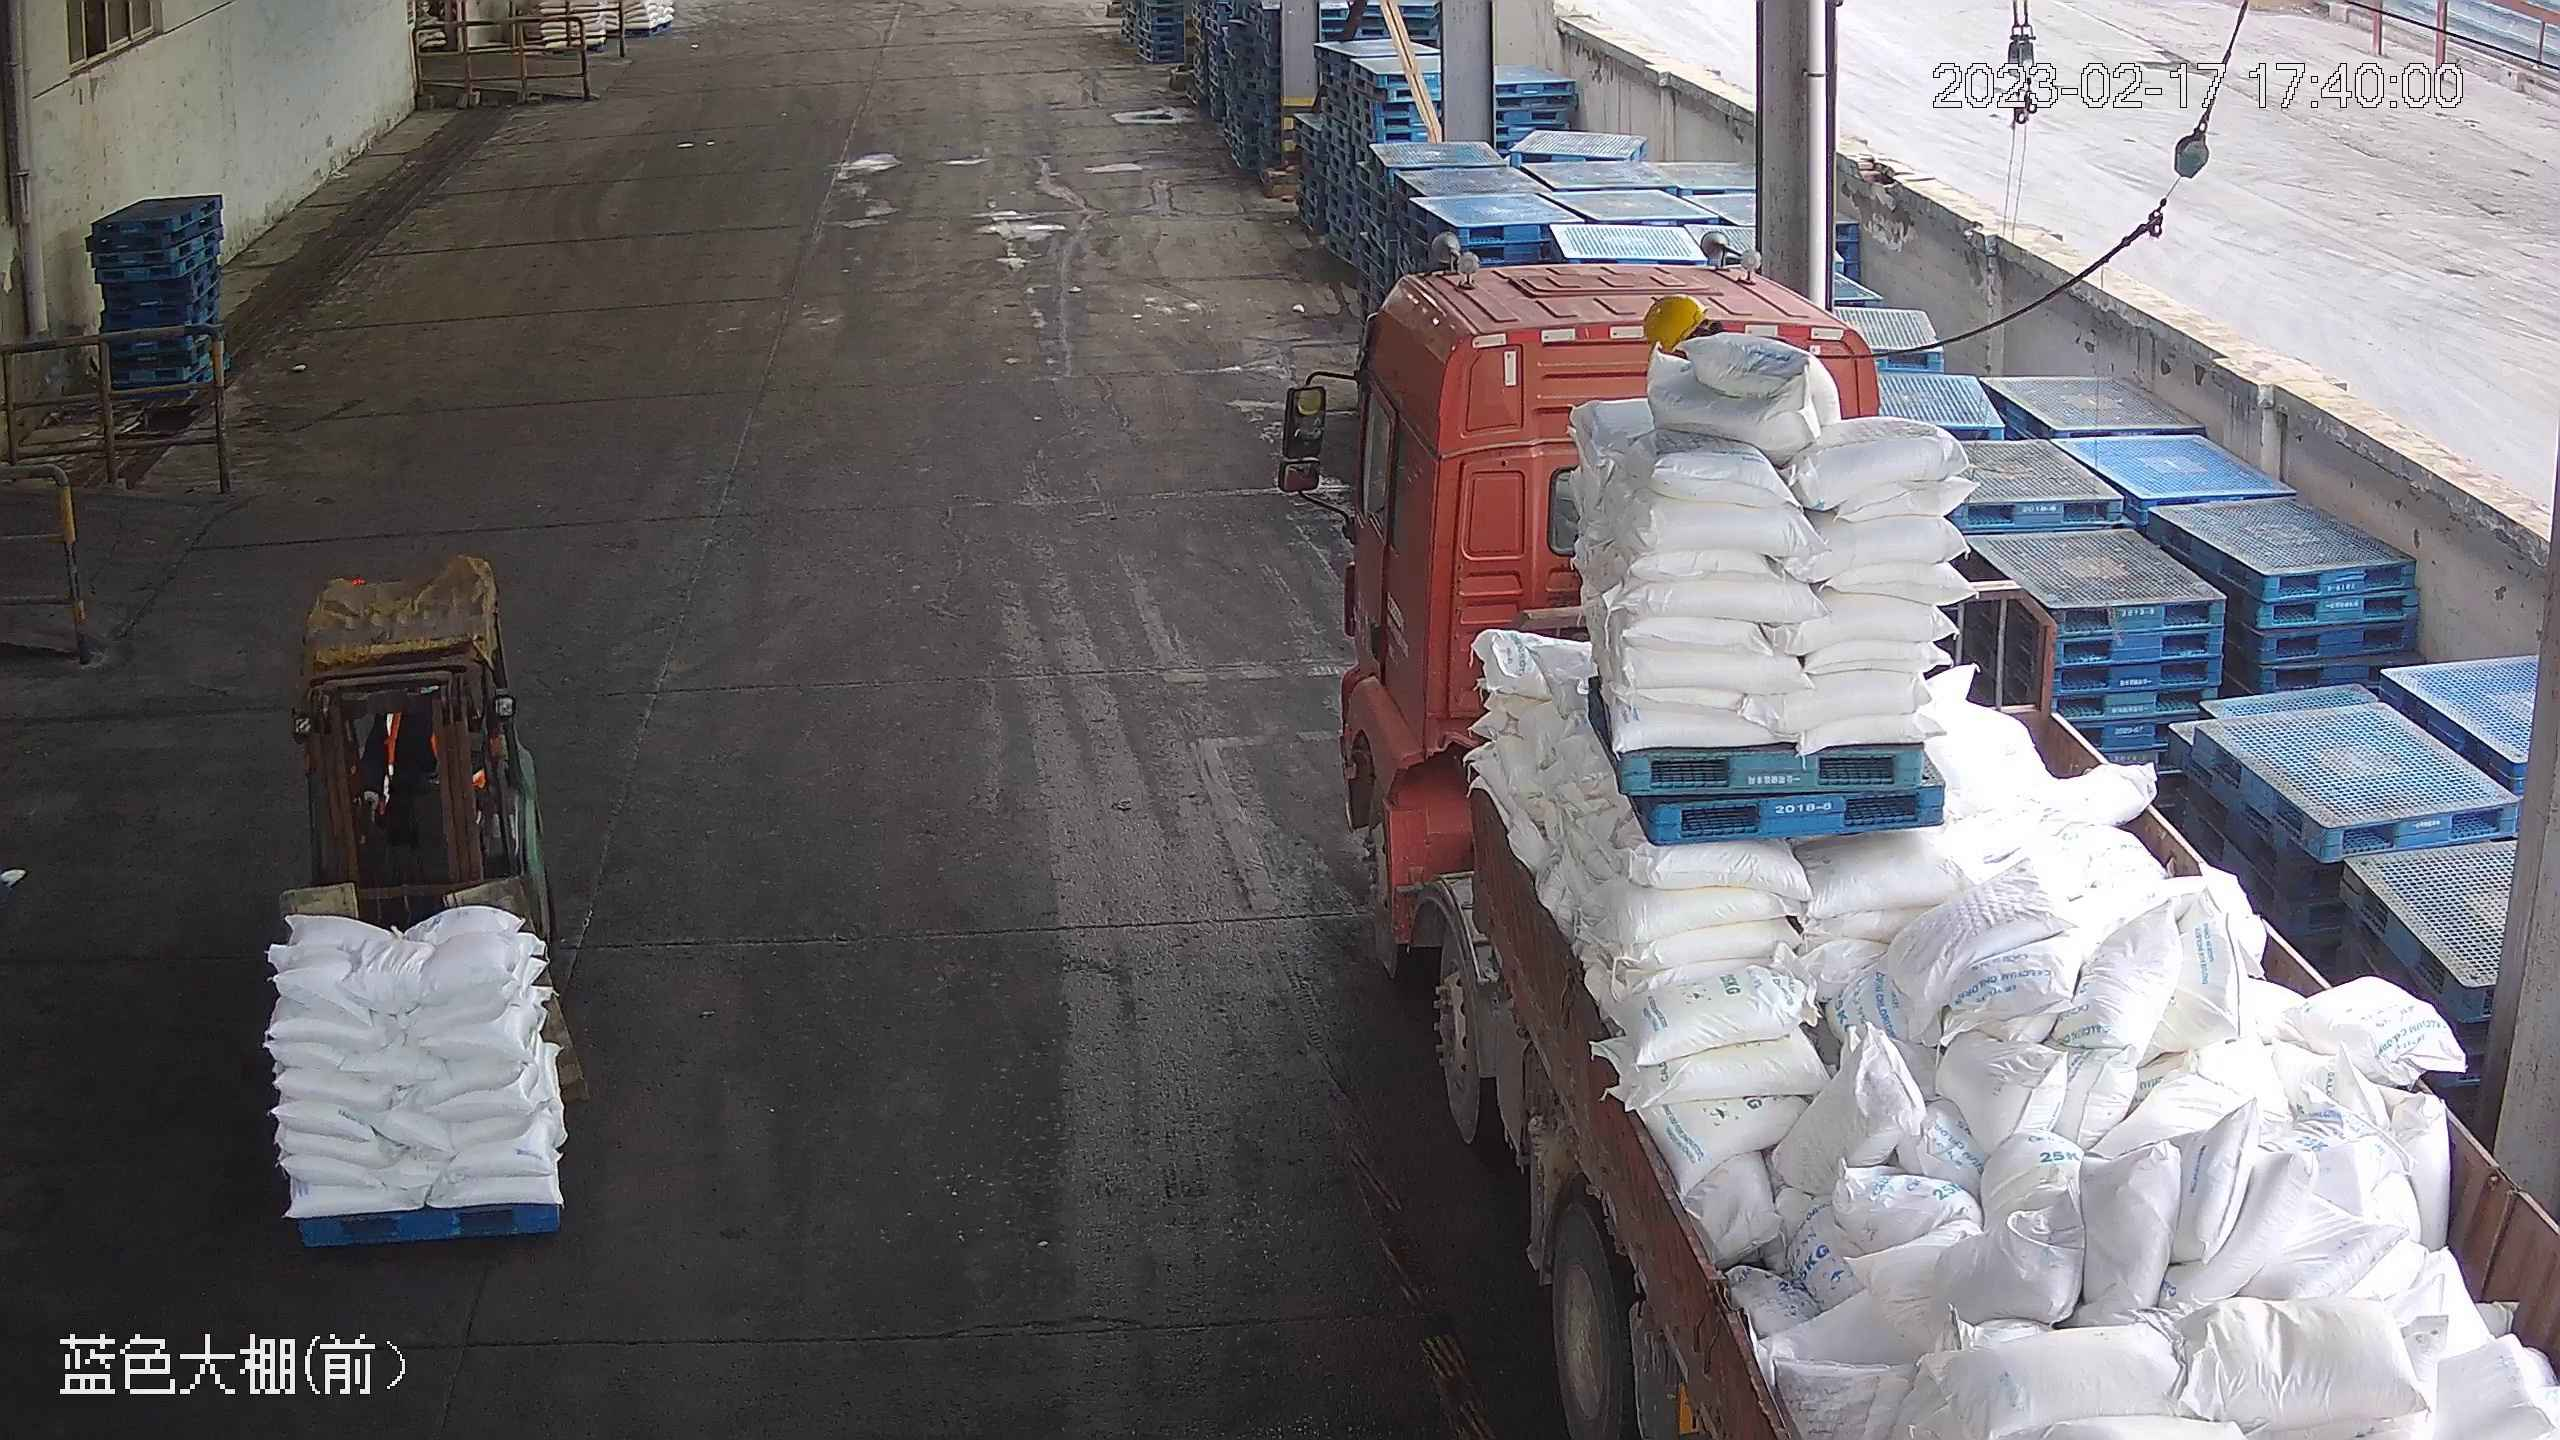helmet: (1639, 288, 1707, 352)
truck: (1276, 248, 2551, 1436)
